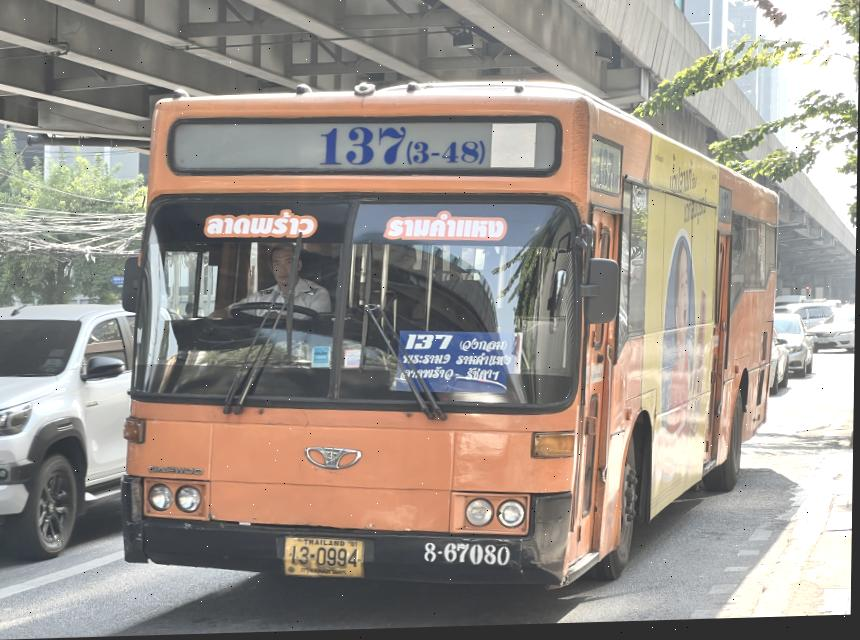BMTA-bus: (122, 85, 782, 597)
Bus Line Number: (314, 113, 492, 180)
Bus Side Number: (419, 535, 517, 577)
Destination Sign: (393, 331, 516, 408)
